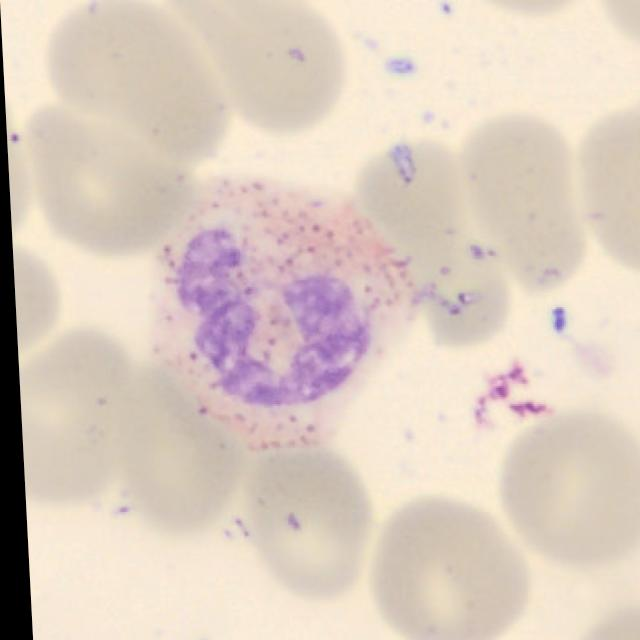Neutrofilo segmentado: (142, 177, 416, 455)
